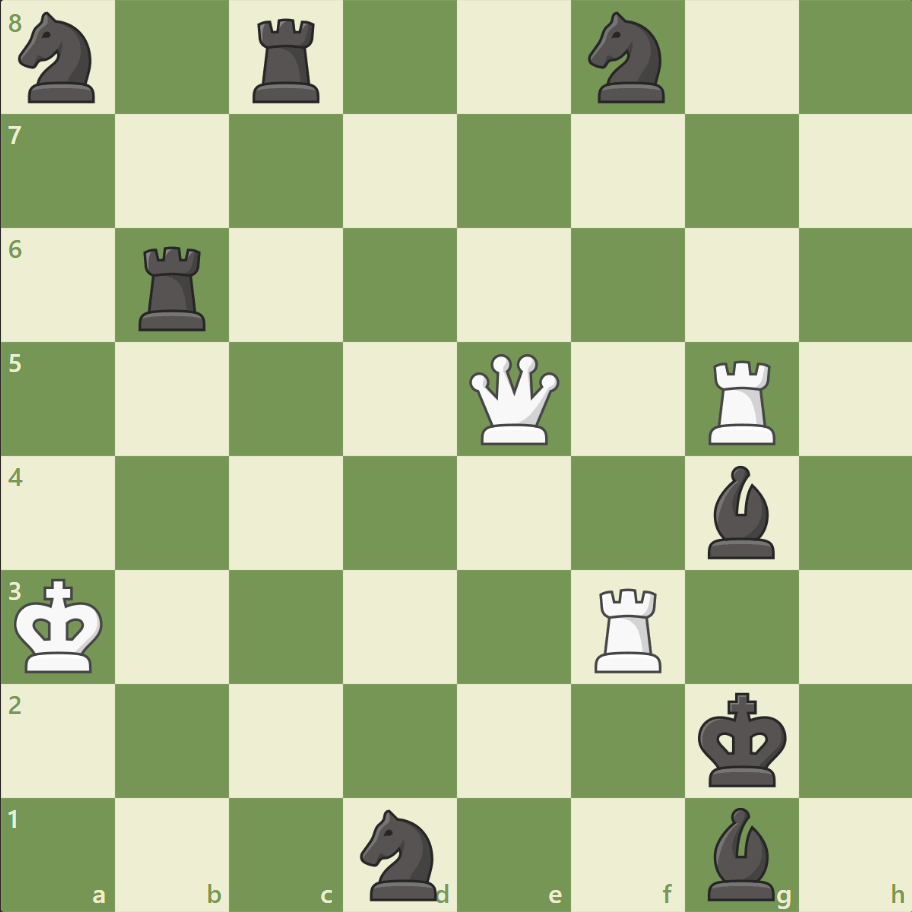K: (11, 571, 111, 679)
Q: (464, 349, 563, 449)
R: (700, 352, 783, 449), (587, 579, 670, 676)
b: (698, 460, 782, 563), (698, 801, 782, 904)
k: (692, 685, 792, 793)
n: (351, 802, 449, 904), (11, 7, 108, 110), (579, 7, 676, 110)
r: (246, 12, 329, 109), (133, 239, 215, 336)
